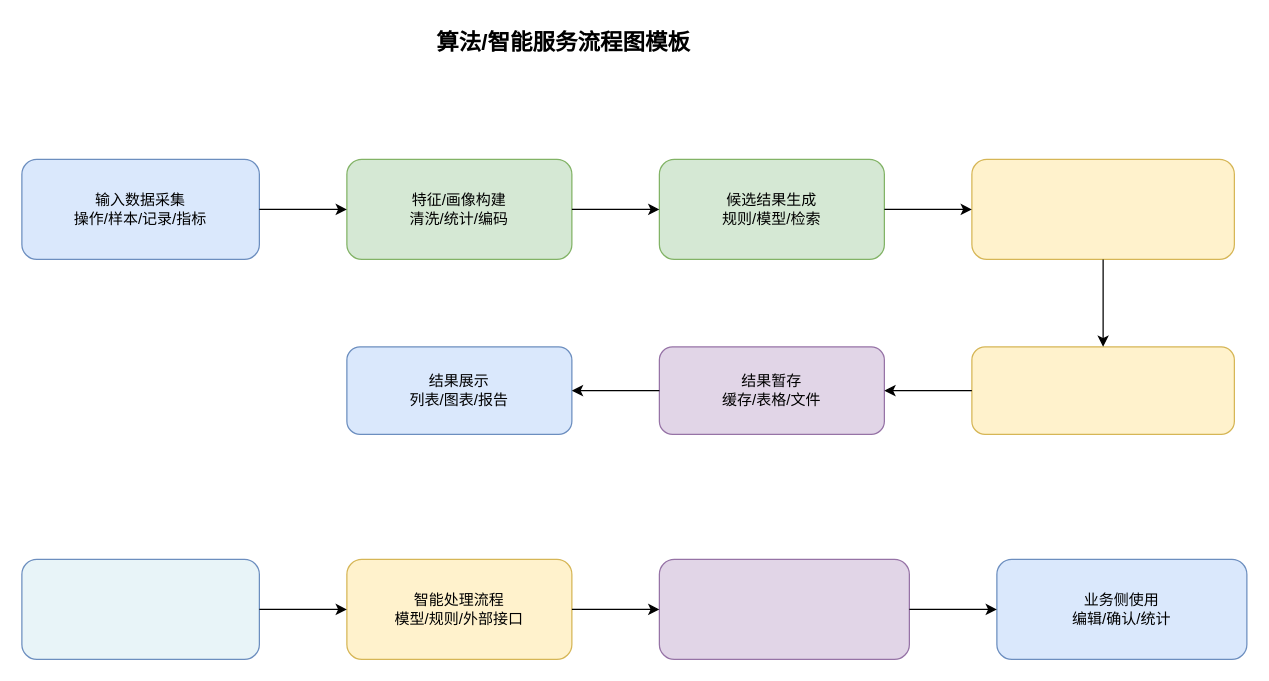
Some shapes in this 1269 by 681 pixel diagram are drawn without their labels. The centre of each missing label's shape, as x and y in pixels:
任务输入 目标/约束/偏好: [140,608]
结果结构化保存 字段/记录/文件: [783,608]
结果解释生成 输出原因/依据: [1102,390]
评分与排序 指标A + 指标B + 权重: [1102,208]
